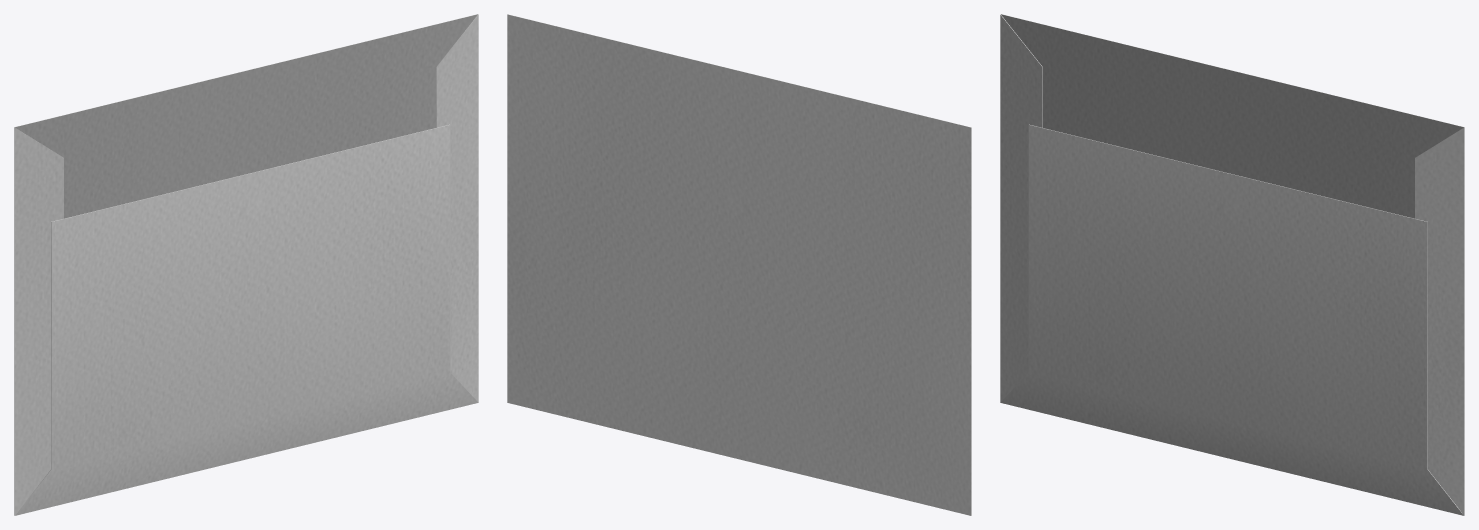
File: Envelope-BQ1xSGeu.glb
3 views of the same model, side by side, from view 1: azimuth 30°, elevation 25°; view 2: azimuth 150°, elevation 25°; view 3: azimuth 330°, elevation 25° (orthographic).
Visible parts, largest first — view 1: grid1; view 2: grid1; view 3: grid1.
Boxes of the visible parts, bbox=[...] form: grid1: bbox=[14, 14, 478, 515]; grid1: bbox=[507, 14, 971, 515]; grid1: bbox=[1000, 14, 1464, 515].
Bounding box in the file's own units: 1 × 0.8002 × 0.018.
4 materials, 4 textured.
